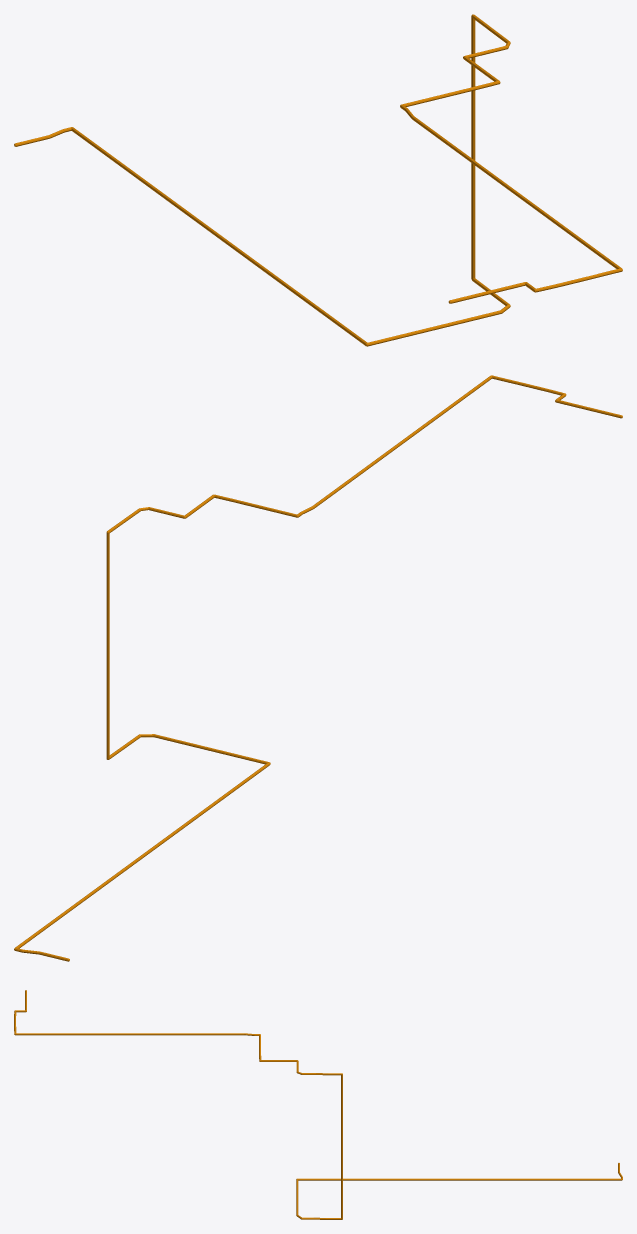
3 renders of one model, top to bottom at view 1: azimuth 30°, elevation 25°; view 2: azimuth 150°, elevation 25°; view 3: azimuth 270°, elevation 25°, orthographic. The views are drawn at different scales.
Bounding box in the file's own units: 1870 × 1520 × 5722.
